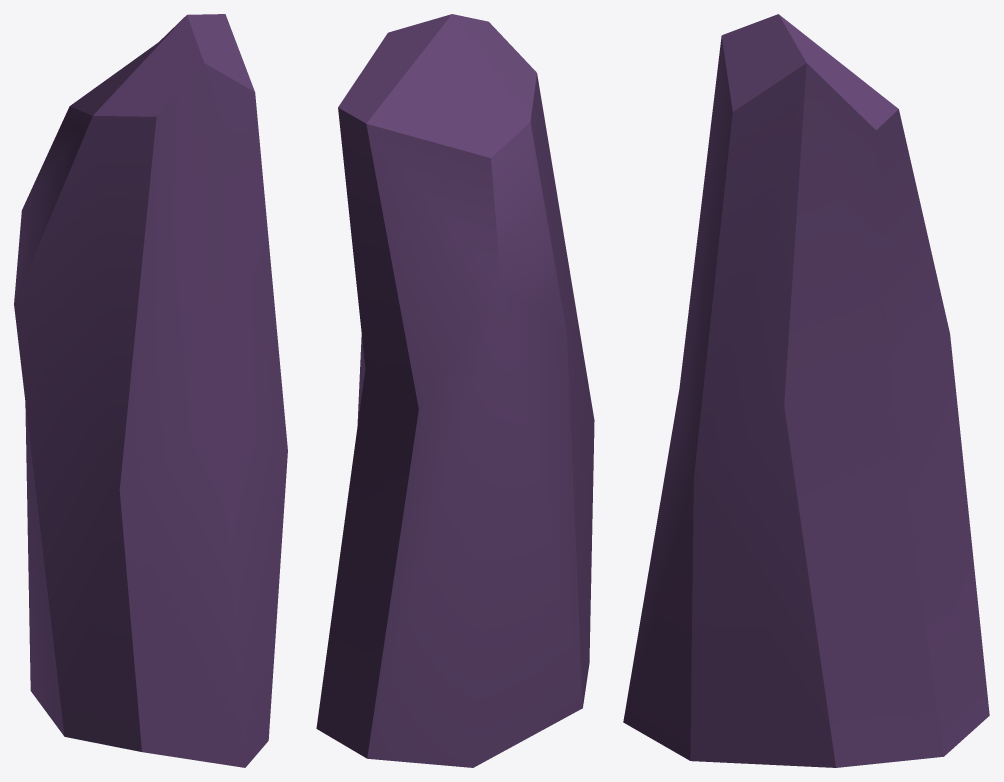
The model's file is Rock_002.fbx.
3 views of the same model, side by side, from view 1: azimuth 30°, elevation 25°; view 2: azimuth 150°, elevation 25°; view 3: azimuth 270°, elevation 25° (orthographic). The views are drawn at different scales.
Parts seen in each view (by area): view 1: Rock_002; view 2: Rock_002; view 3: Rock_002.
Part boxes in pixels (x1,y1,x2,y2): Rock_002: (14, 14, 287, 767); Rock_002: (316, 14, 594, 767); Rock_002: (623, 14, 989, 767).
Bounding box in the file's own units: 2.17 × 6.22 × 2.84.
